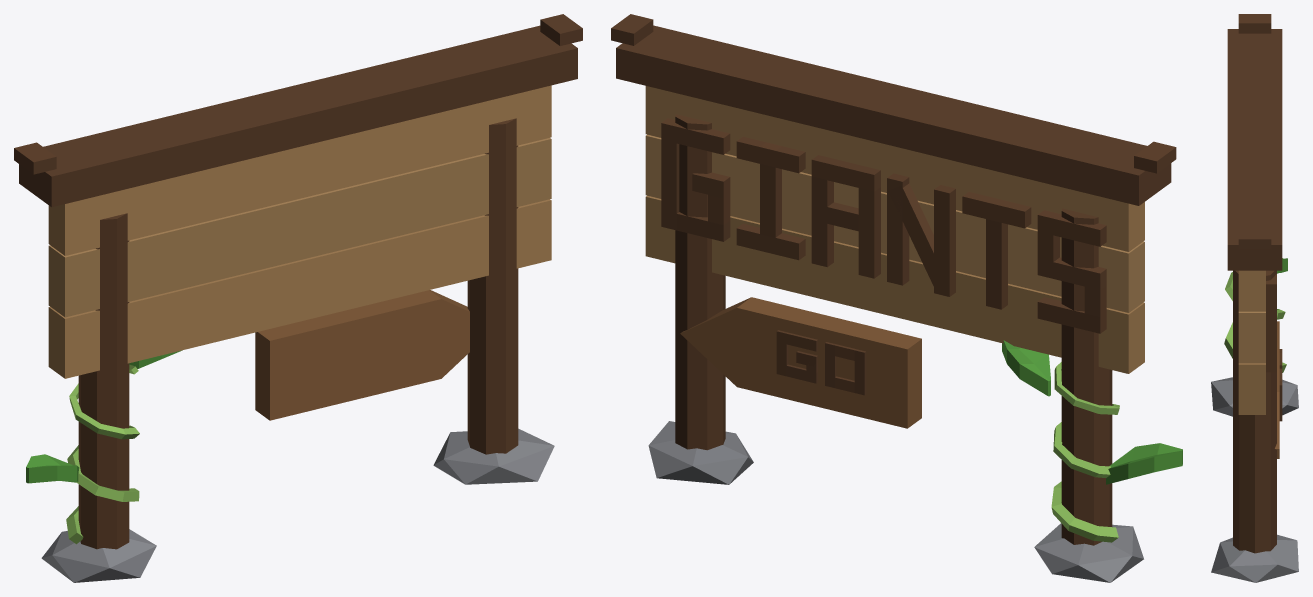
Rendered from Decor_Beanstalk_Signpost.fbx.
The picture shows the model from 3 angles, left to right: view 1: azimuth 30°, elevation 25°; view 2: azimuth 150°, elevation 25°; view 3: azimuth 270°, elevation 25°; orthographic projection. The views are drawn at different scales.
Visible parts, largest first — view 1: Signpost_Body; view 2: Signpost_Body; view 3: Signpost_Body.
Boxes of the visible parts, <box> form: Signpost_Body: <box>14,14,582,582</box>; Signpost_Body: <box>611,14,1182,582</box>; Signpost_Body: <box>1211,14,1298,582</box>.
Size of the model in its own units: 18.4 by 13.5 by 3.
